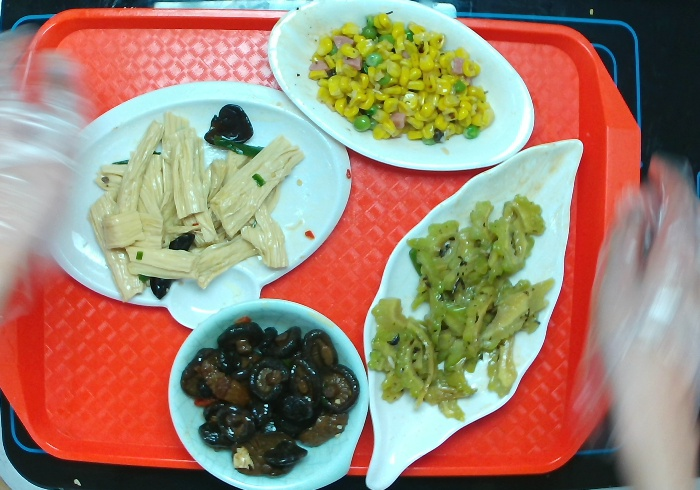RJxy-Bai_Se_Tuo_Yuan: (255, 1, 538, 178)
RJxy-Shu_Ye_Pan: (360, 132, 596, 490)
RJxy-Xiao_Jiao_Yuan_Wan: (163, 280, 373, 490)
RJxy-Zhan_Liao_Pan: (45, 78, 360, 333)
